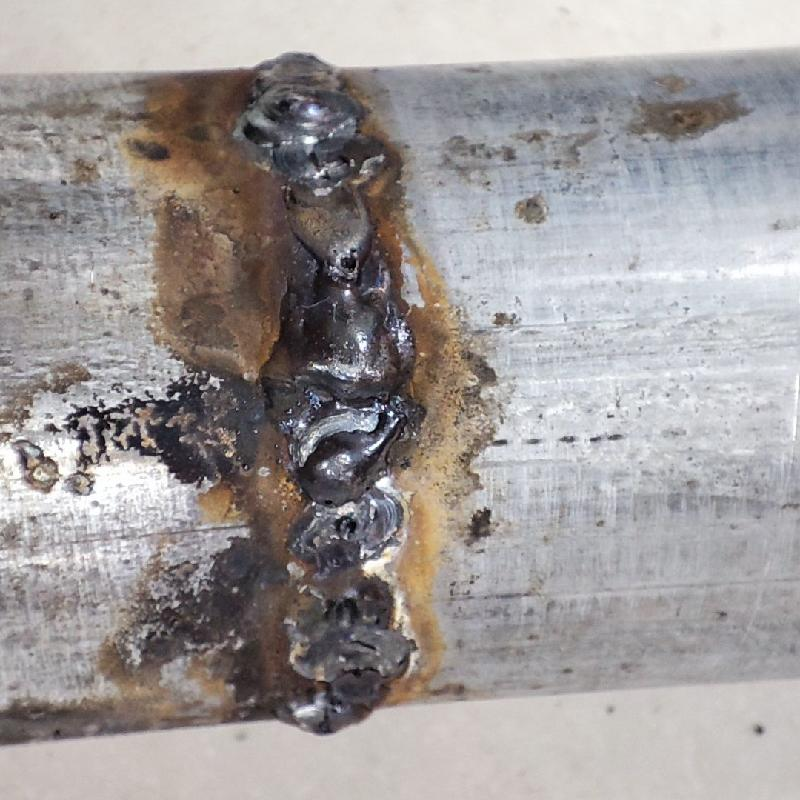Not_fully_soldered: (284, 509, 420, 684), (270, 145, 386, 277)
Surface_pores: (321, 241, 364, 275)
Weld: (256, 276, 423, 508)
wrong_size: (236, 54, 365, 144)
